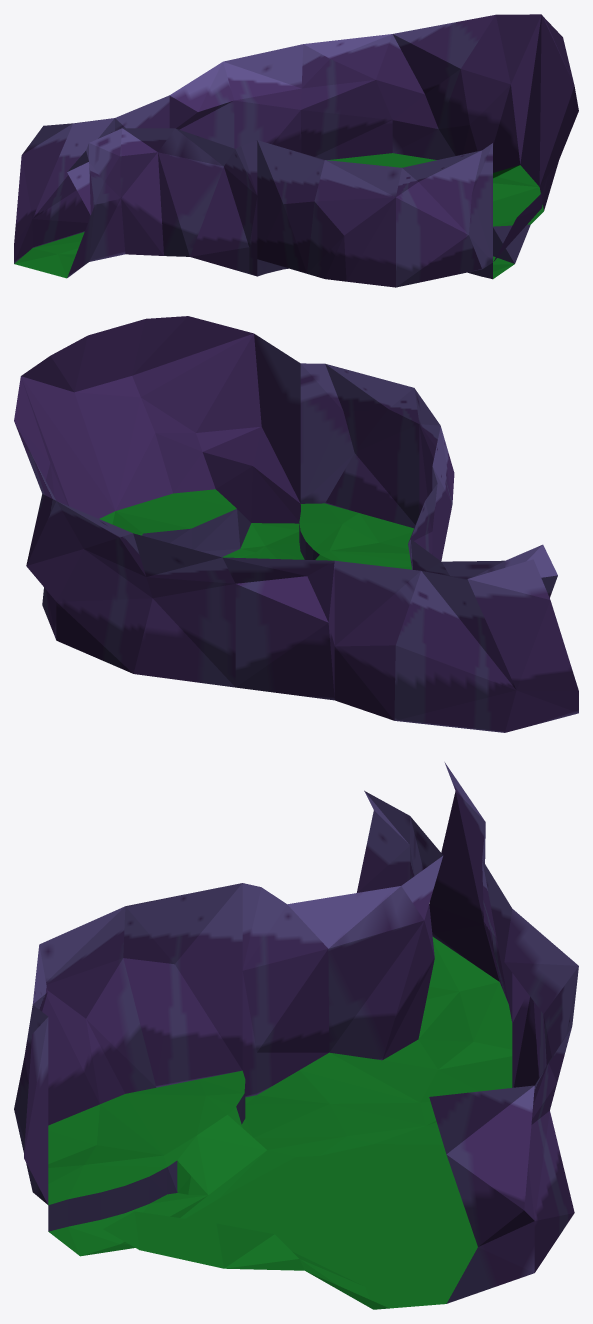
The model's file is Base Completo.fbx.
3 renders of one model, top to bottom at view 1: azimuth 30°, elevation 25°; view 2: azimuth 150°, elevation 25°; view 3: azimuth 270°, elevation 25°, orthographic. The views are drawn at different scales.
Visible parts, largest first — view 1: Mapa Base.006, Mapa Base.008, Mapa Base, Mapa Base.007, Mapa Base.001, Mapa Base.002, Mapa Base.010; view 2: Mapa Base.006, Mapa Base.007, Mapa Base, Mapa Base.008, Mapa Base.005, Mapa Base.001, Mapa Base.004; view 3: Mapa Base.006, Mapa Base.008, Mapa Base.002, Mapa Base, Mapa Base.005, Mapa Base.010, Mapa Base.001, Mapa Base.012, Mapa Base.003, Mapa Base.013, Mapa Base.007, Mapa Base.004 (+2 smaller).
Boxes of the visible parts, <box> form: Mapa Base.006: <box>14,62,257,277</box>; Mapa Base.008: <box>257,140,492,287</box>; Mapa Base: <box>223,15,495,159</box>; Mapa Base.007: <box>439,14,578,263</box>; Mapa Base.001: <box>493,165,543,226</box>; Mapa Base.002: <box>14,232,84,278</box>; Mapa Base.010: <box>327,153,436,167</box>; Mapa Base.006: <box>222,466,578,732</box>; Mapa Base.007: <box>14,316,300,557</box>; Mapa Base: <box>14,422,235,687</box>; Mapa Base.008: <box>299,363,454,560</box>; Mapa Base.005: <box>299,503,413,569</box>; Mapa Base.001: <box>99,489,236,535</box>; Mapa Base.004: <box>240,523,304,559</box>; Mapa Base.006: <box>242,762,578,1097</box>; Mapa Base.008: <box>14,883,245,1231</box>; Mapa Base.002: <box>242,937,512,1138</box>; Mapa Base: <box>429,966,578,1303</box>; Mapa Base.005: <box>48,1070,266,1205</box>; Mapa Base.010: <box>281,1214,477,1303</box>; Mapa Base.001: <box>103,1211,445,1308</box>; Mapa Base.012: <box>180,1170,387,1219</box>; Mapa Base.003: <box>343,1126,468,1221</box>; Mapa Base.013: <box>287,1136,422,1198</box>; Mapa Base.007: <box>24,1017,389,1309</box>; Mapa Base.004: <box>48,1193,207,1256</box>.
Size of the model in its own units: 57424 by 35553 by 19117.
Materials: 2 (1 with a texture image).
